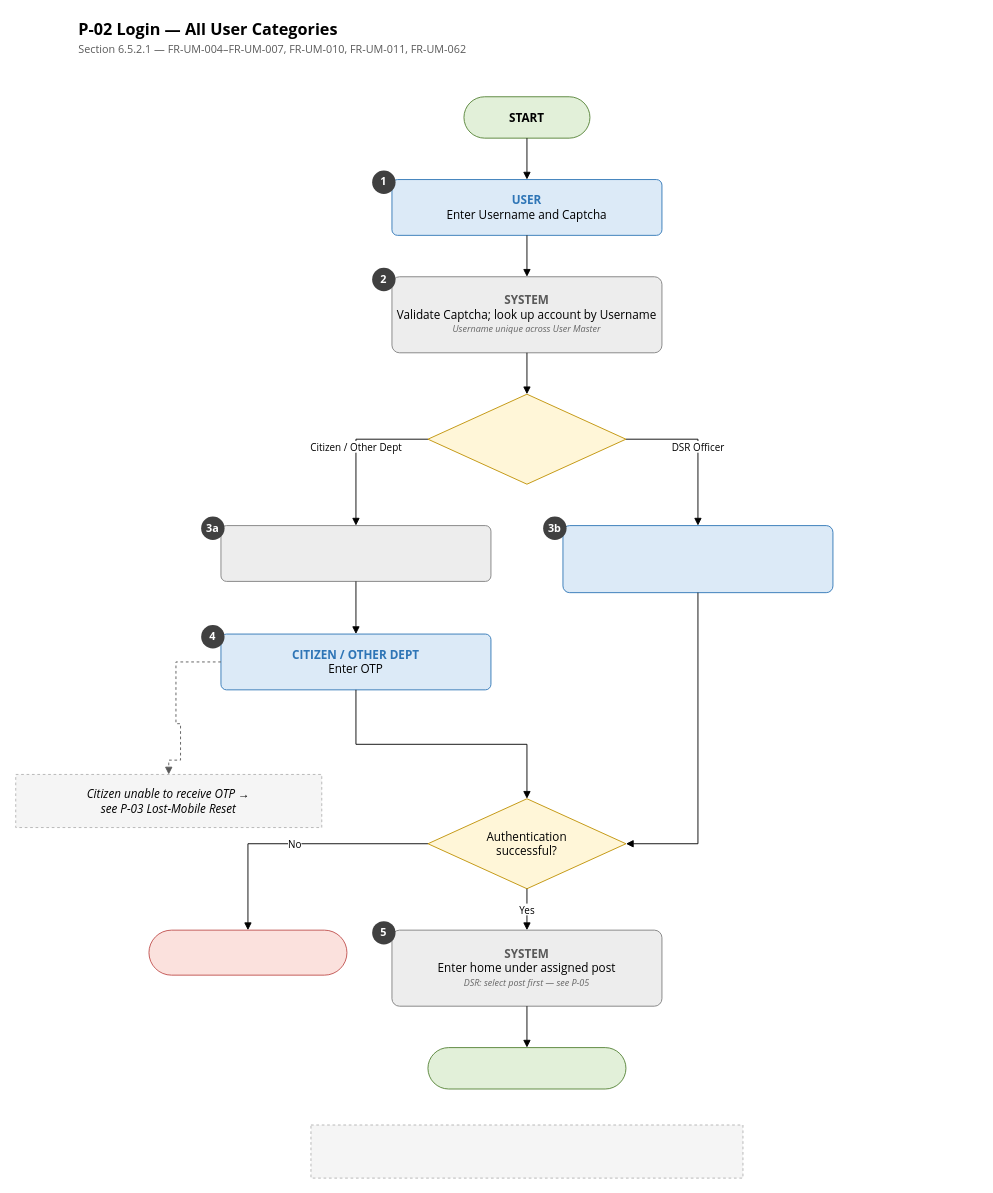
Some shapes in this 993 by 1193 pixel diagram are drawn without their labels. Here are the shapes that lost their labels. From the top down, the centre of each, then its label:
pixel 526 438: User category?
pixel 355 553: SYSTEM Dispatch login OTP to registered mobile
pixel 697 559: DSR OFFICER Captcha + Face authentication or Biometrics (no OTP)
pixel 247 952: ACCESS DENIED
pixel 526 1068: SESSION ACTIVE
pixel 526 1151: After login: Citizen / DSR may update mobile (see P-03 / P-04)
